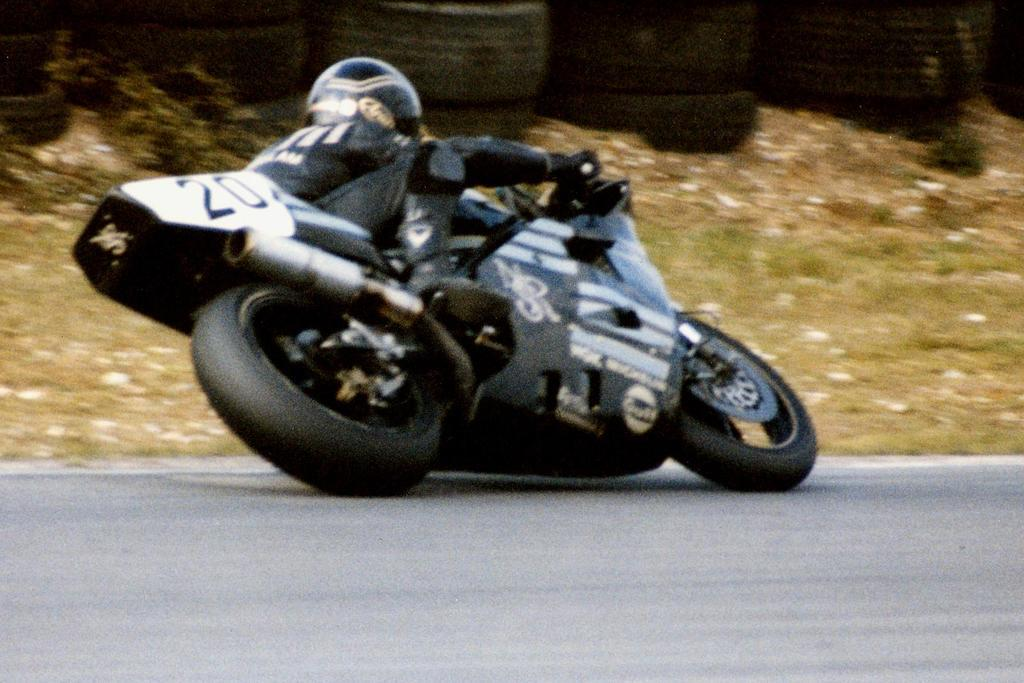helmet: (303, 57, 423, 169)
